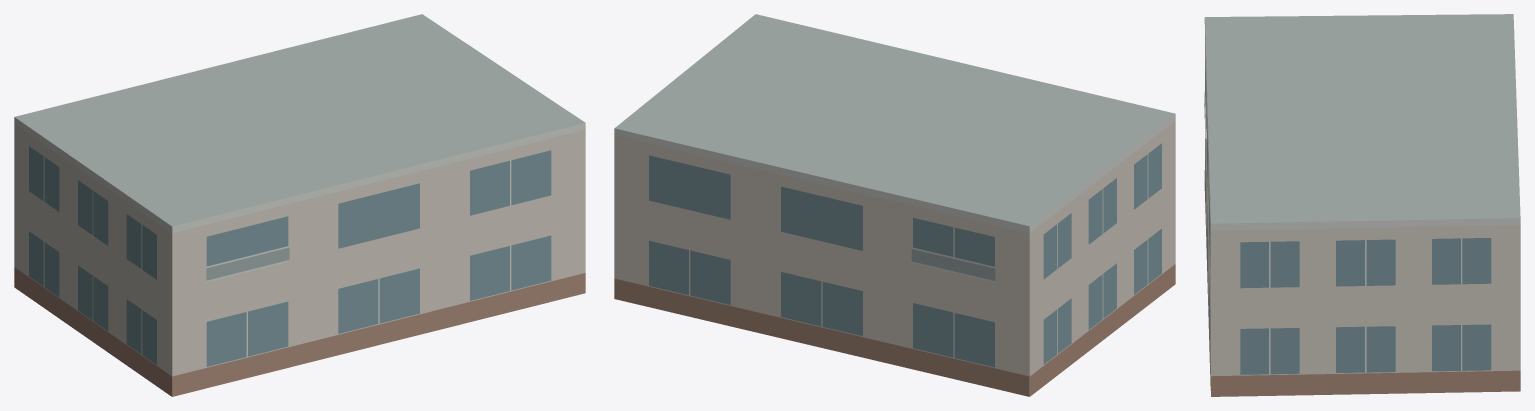
Rendered from survey-upis-32990163.glb.
The picture shows the model from 3 angles, left to right: view 1: azimuth 30°, elevation 25°; view 2: azimuth 150°, elevation 25°; view 3: azimuth 270°, elevation 25°; orthographic projection.
Parts seen in each view (by area): view 1: survey-upis-32990163.tmp; view 2: survey-upis-32990163.tmp; view 3: survey-upis-32990163.tmp.
Boxes of the visible parts, <box> form: survey-upis-32990163.tmp: <box>14,14,585,396</box>; survey-upis-32990163.tmp: <box>614,14,1175,396</box>; survey-upis-32990163.tmp: <box>1204,14,1520,396</box>.
Bounding box in the file's own units: 15.84 × 6.1 × 10.1.
